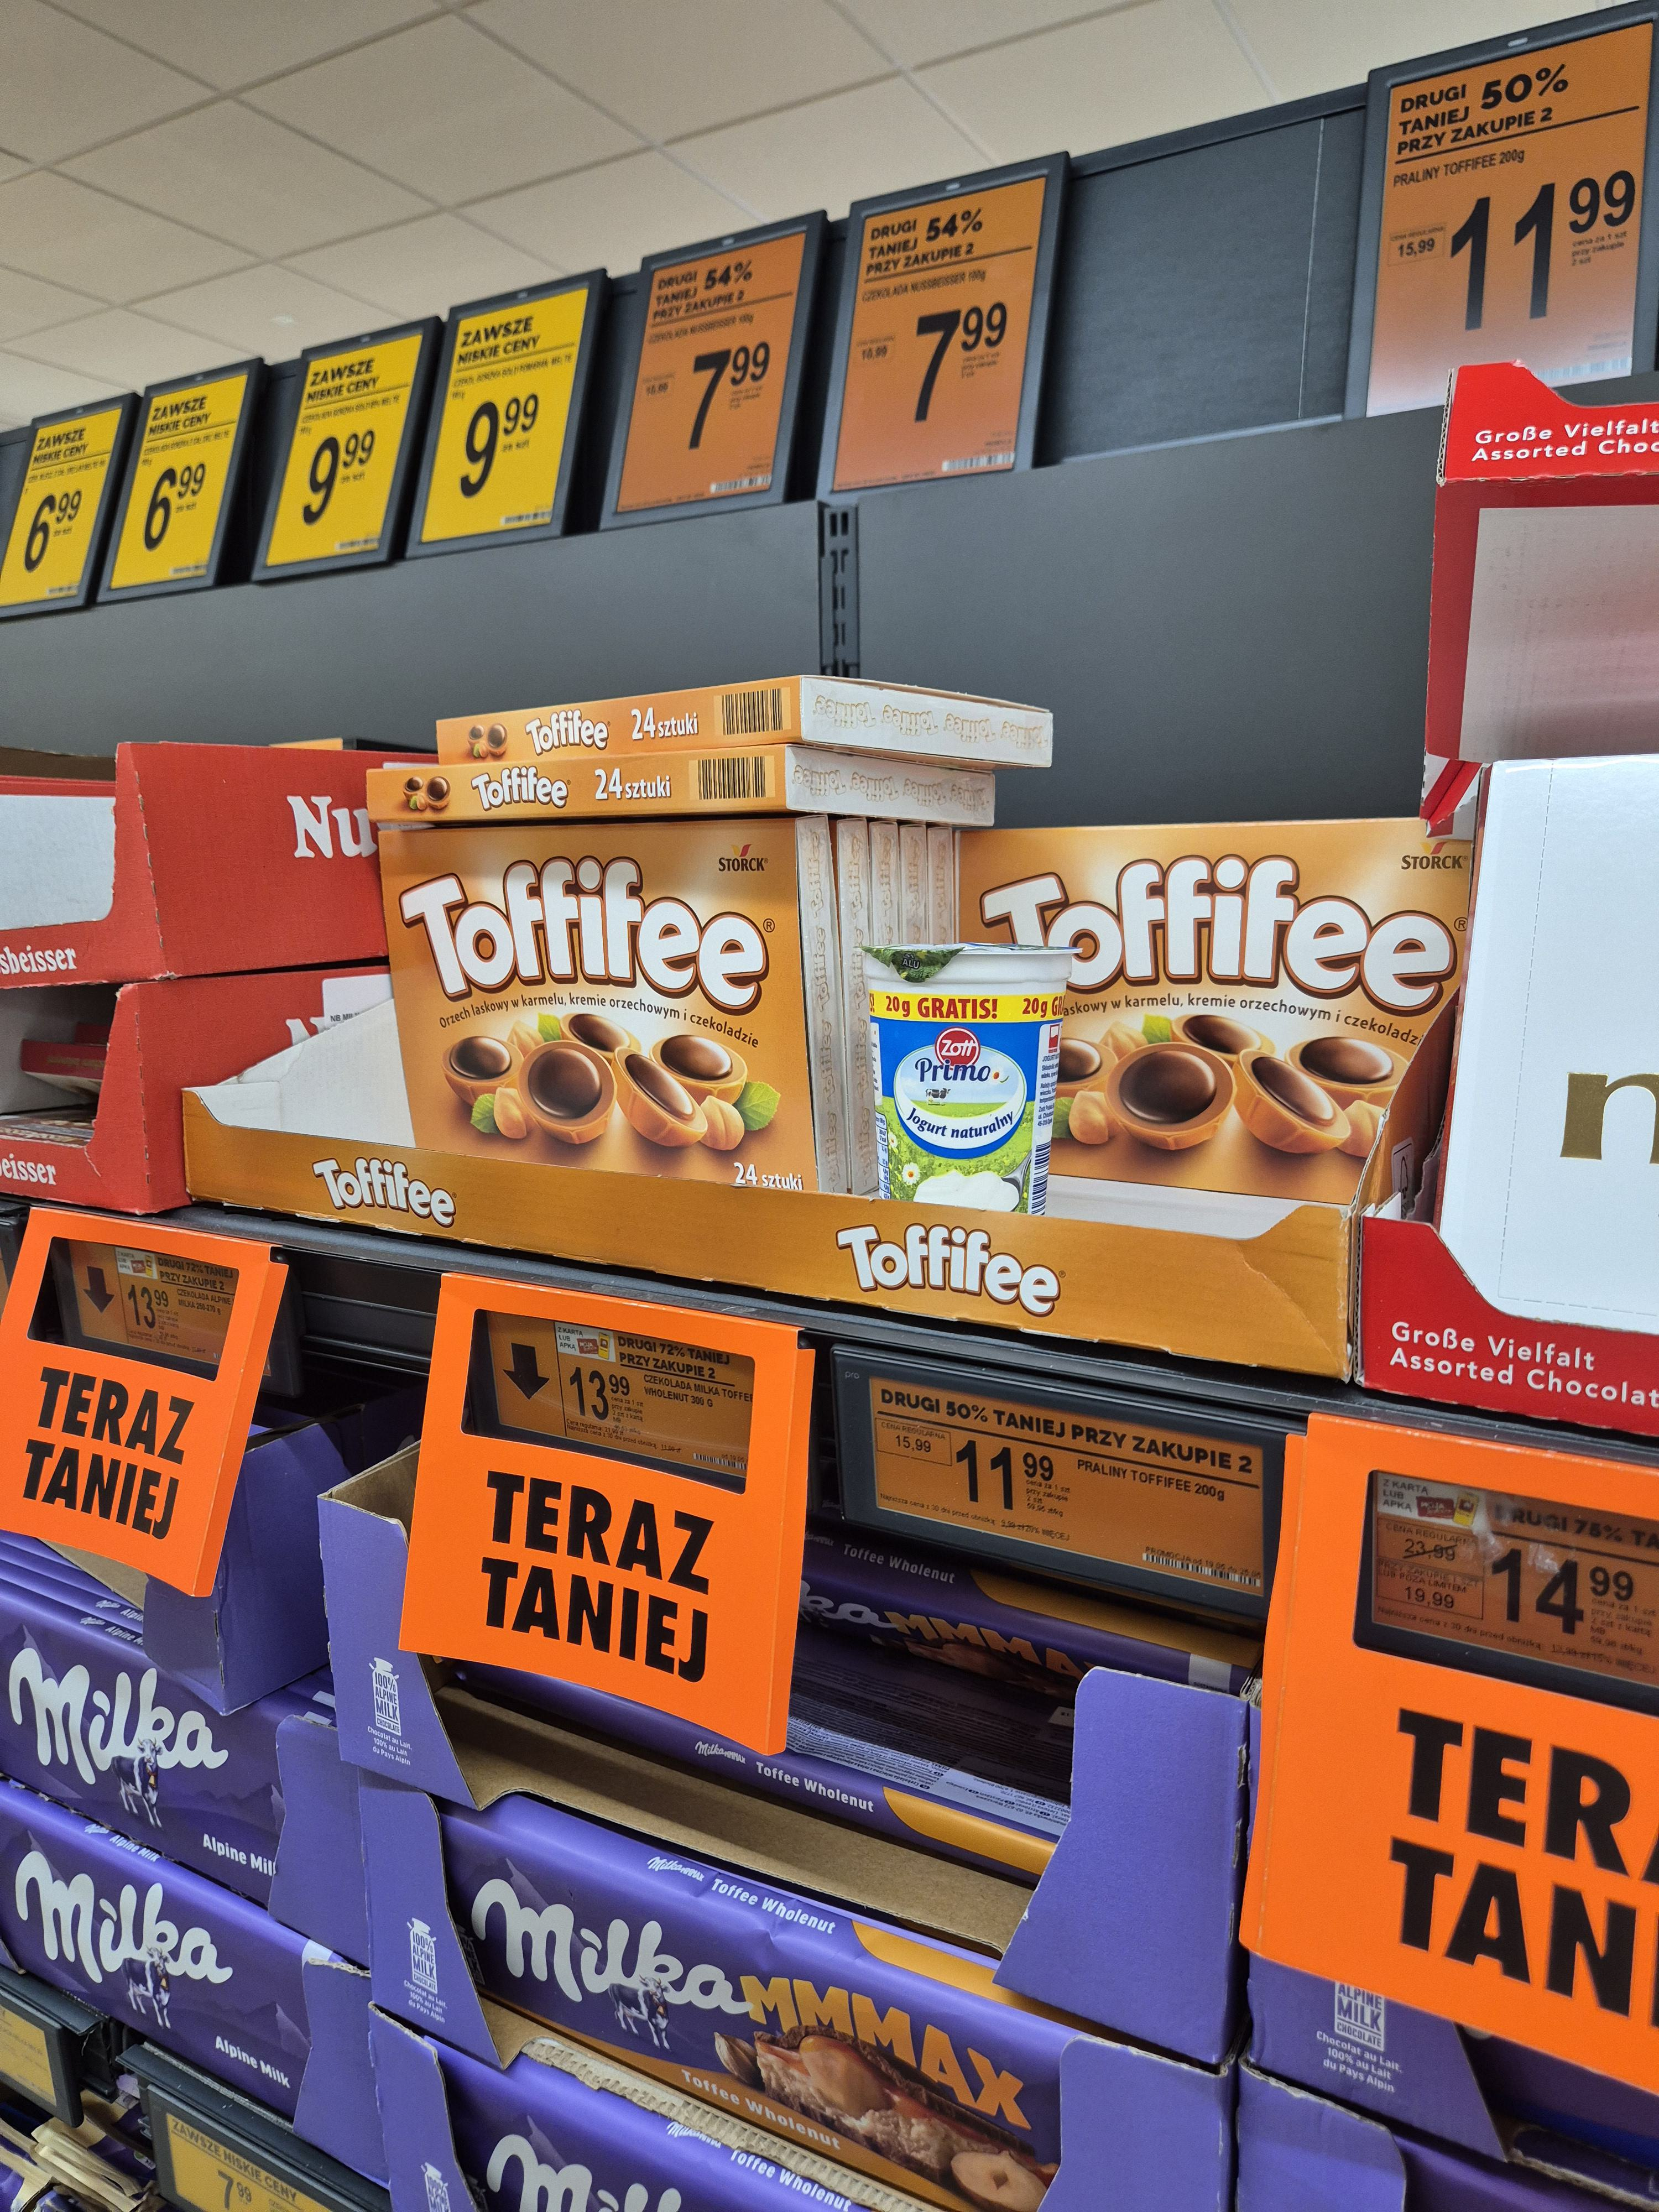Yogurt: (854, 930, 1112, 1263)
